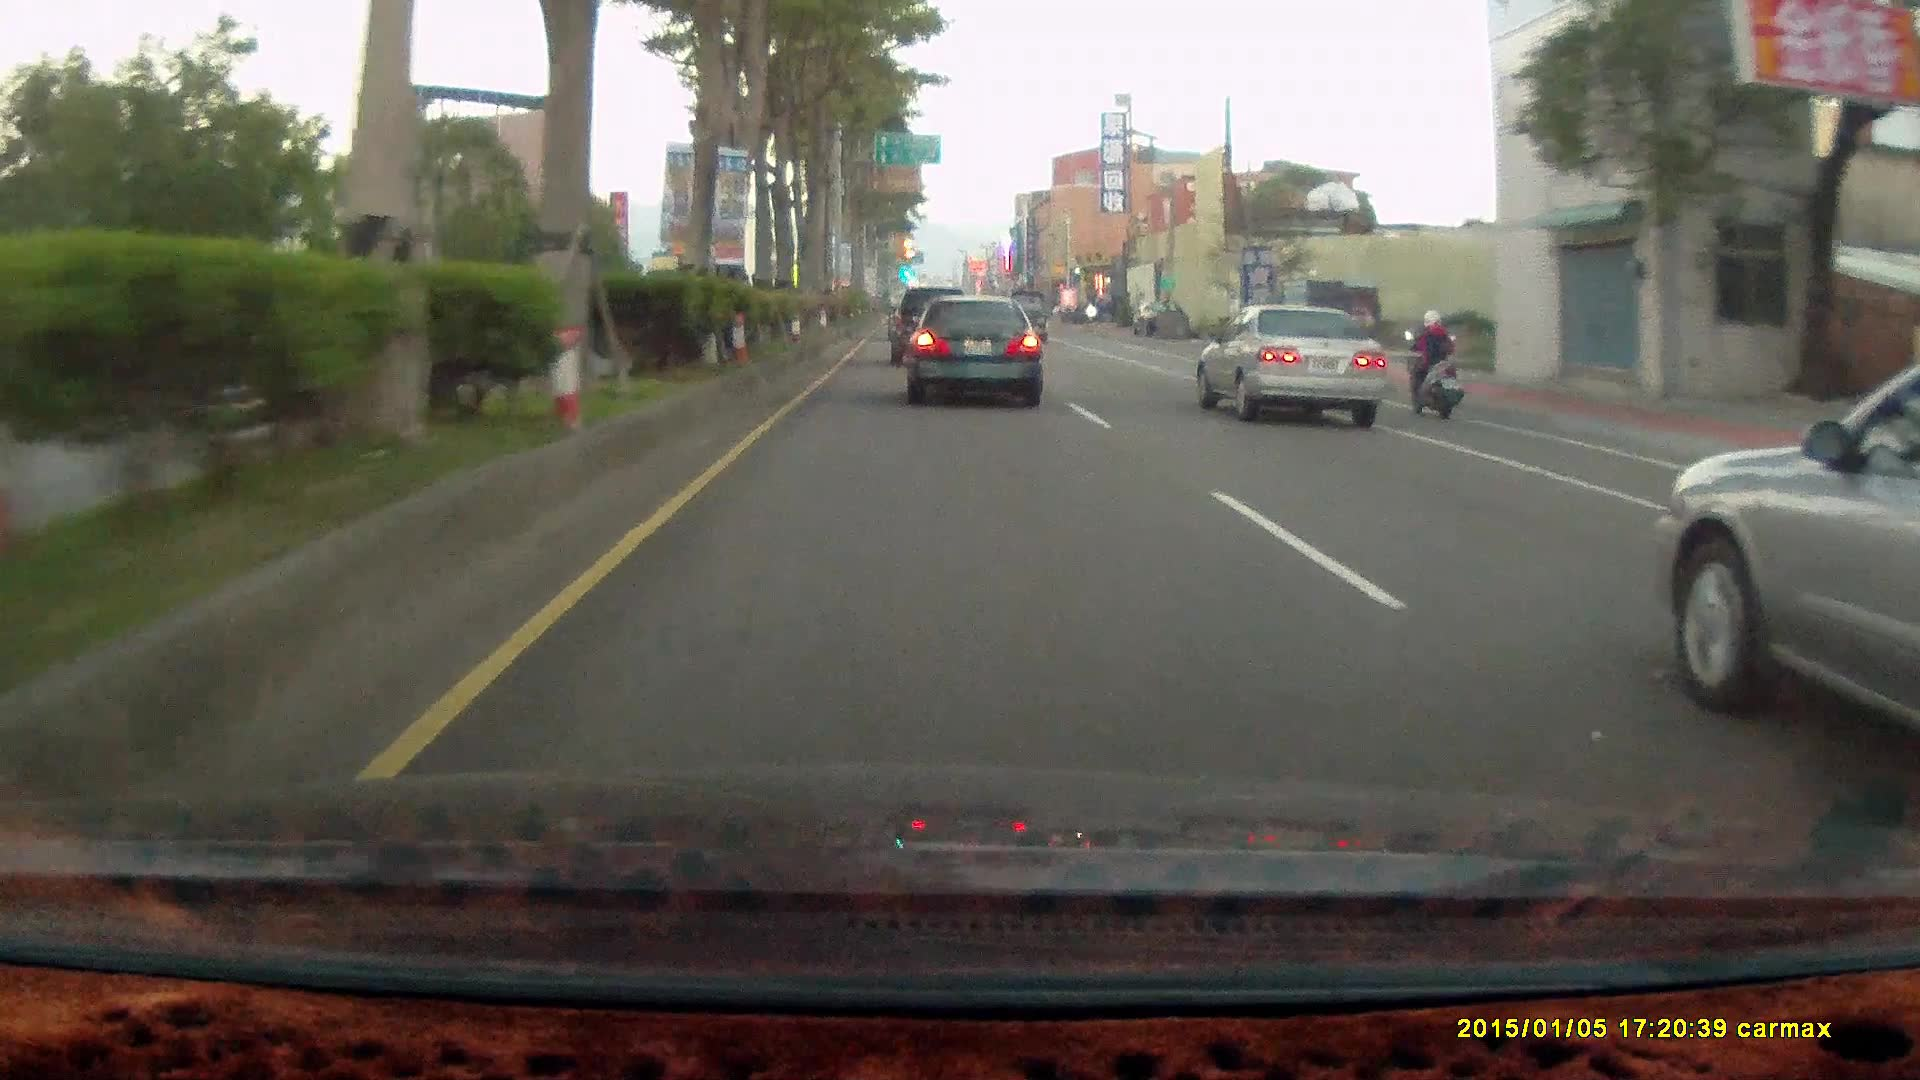rider: (1392, 297, 1475, 428), (1399, 300, 1464, 414)
vehicle: (1663, 361, 1920, 768), (1192, 300, 1386, 424), (1203, 302, 1390, 425), (903, 293, 1043, 405), (902, 292, 1041, 400), (1273, 278, 1381, 367), (889, 282, 971, 365), (889, 287, 970, 368), (1003, 288, 1049, 341), (1084, 286, 1141, 321)
